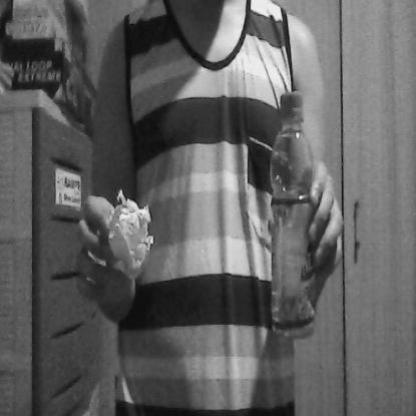Plastic Bottle: (264, 72, 321, 349)
